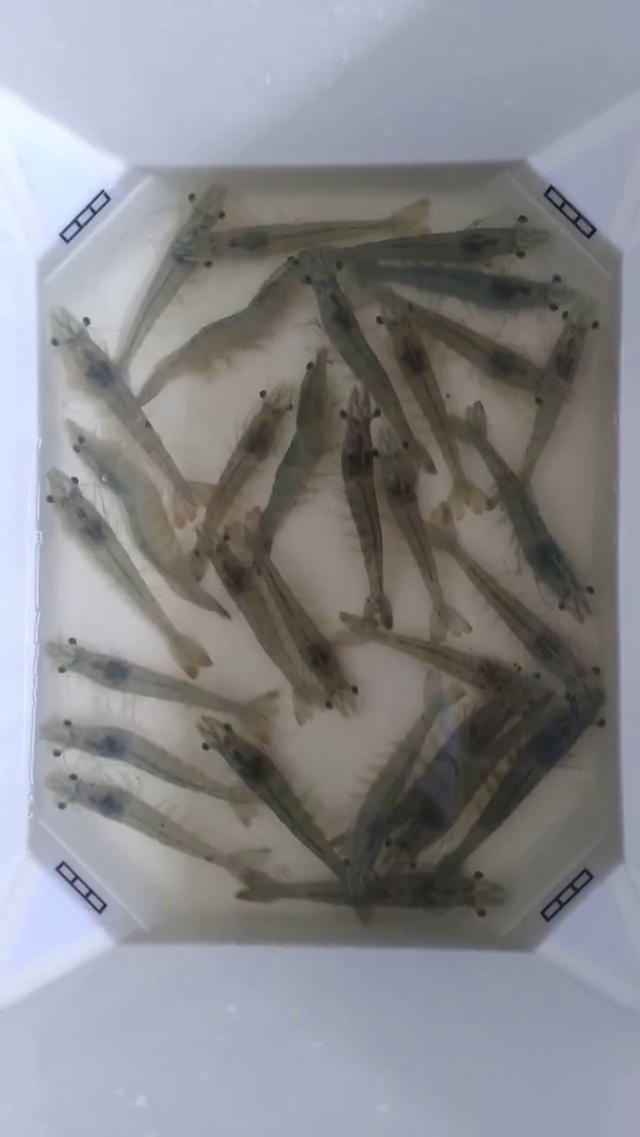shrimp: (546, 436, 639, 752), (552, 204, 639, 470), (235, 534, 355, 722), (317, 294, 435, 472), (574, 516, 639, 824), (84, 338, 194, 505), (423, 773, 530, 944), (318, 236, 435, 390), (36, 555, 135, 718), (458, 164, 567, 310), (156, 791, 266, 935), (153, 677, 255, 825), (390, 615, 515, 735), (518, 284, 589, 483), (0, 646, 65, 861), (195, 175, 292, 317), (196, 515, 282, 668), (457, 401, 535, 567), (39, 226, 140, 353), (127, 459, 212, 608), (46, 469, 142, 592), (0, 372, 39, 631), (0, 214, 37, 482), (224, 221, 345, 299), (218, 384, 292, 487), (338, 604, 399, 713)
